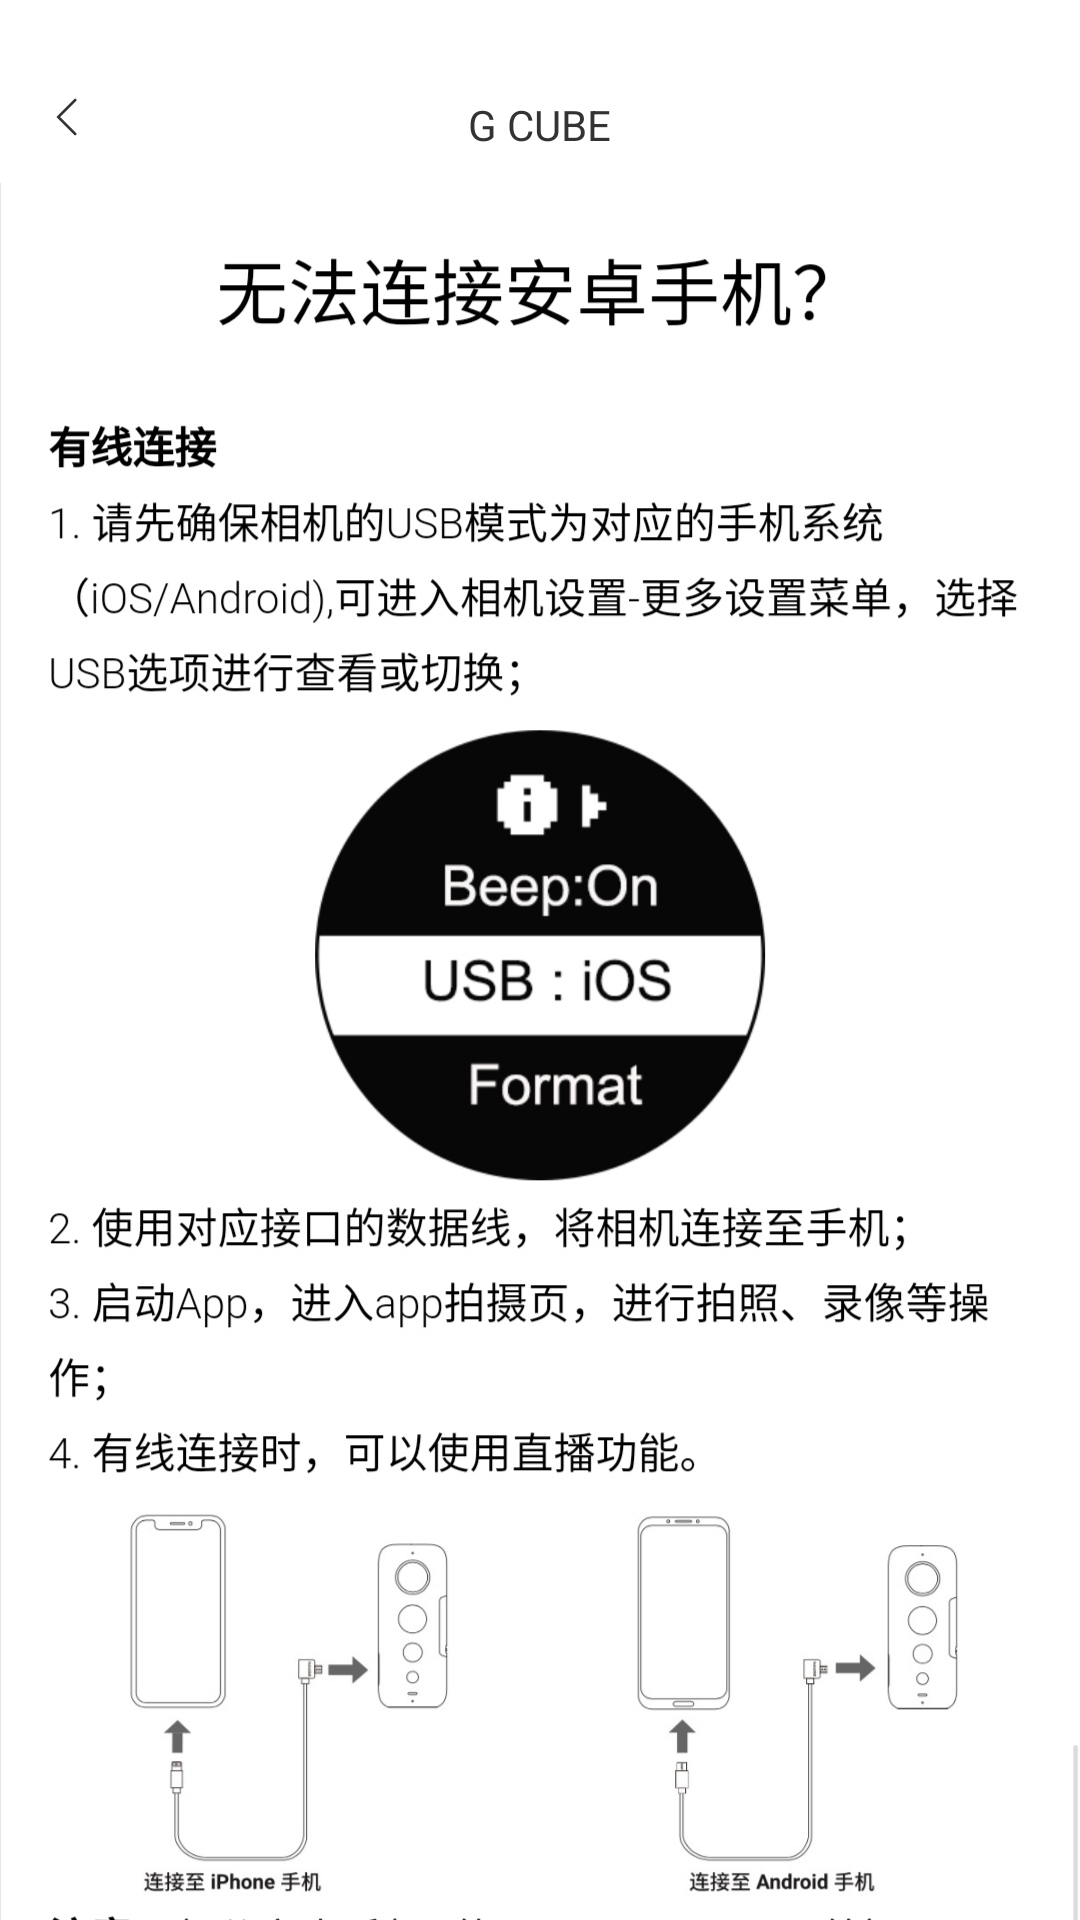

Named icons in this screenshot (1080×1920) and their centers, (x,y):
back: (66,117)
